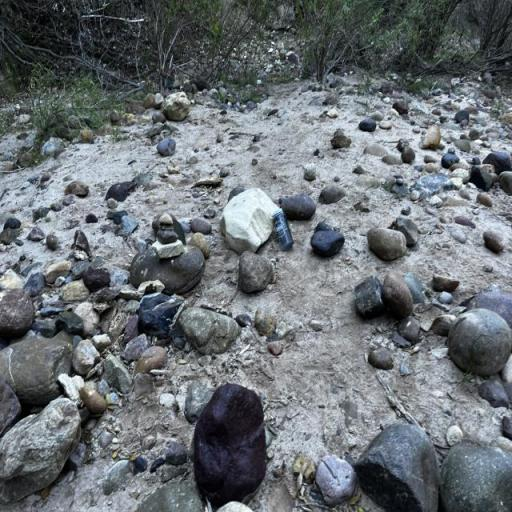bottle: (268, 208, 294, 252)
